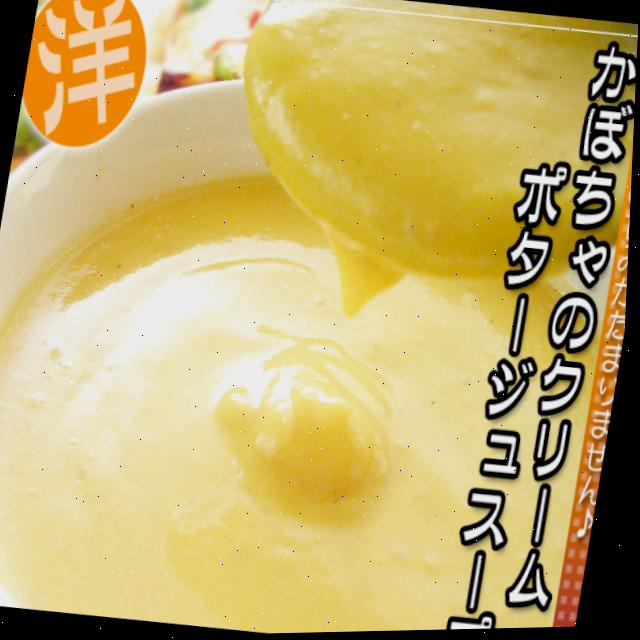汤锅炖物: (0, 137, 510, 640)
